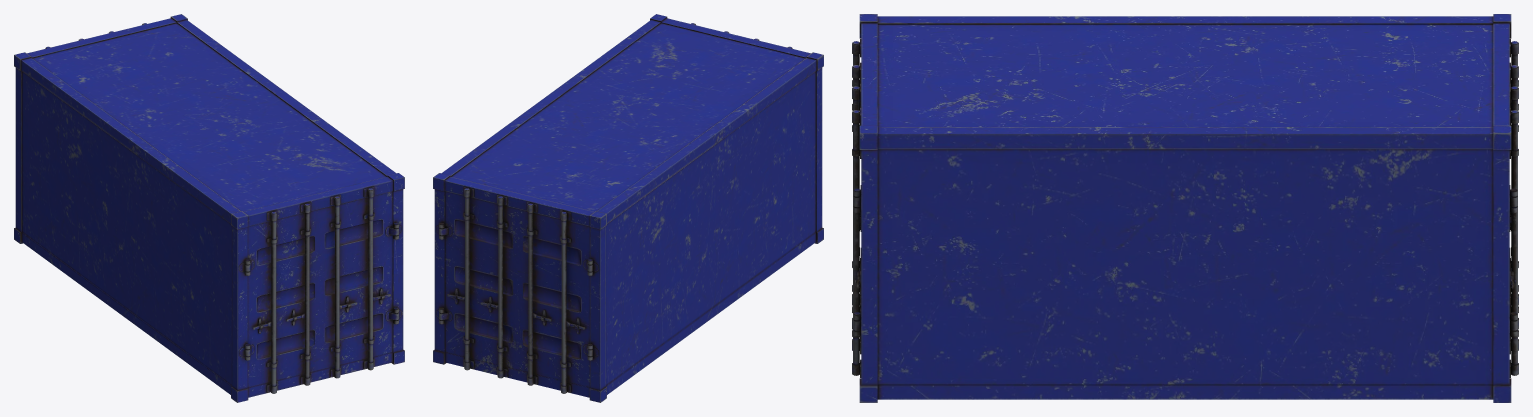
File: container.glb
3 views of the same model, side by side, from view 1: azimuth 30°, elevation 25°; view 2: azimuth 150°, elevation 25°; view 3: azimuth 270°, elevation 25° (orthographic). The views are drawn at different scales.
Visible parts, largest first — view 1: Container; view 2: Container; view 3: Container.
Boxes of the visible parts, bbox=[...] form: Container: bbox=[14, 14, 404, 402]; Container: bbox=[433, 14, 823, 402]; Container: bbox=[852, 14, 1518, 402].
Size of the model in its own units: 270 by 285 by 638.
1 material, 1 textured.
